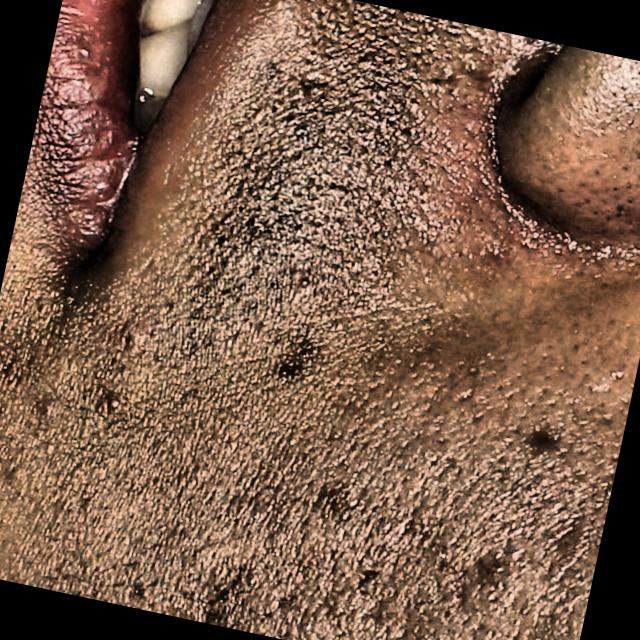whiteheads: (29, 396, 58, 422)
